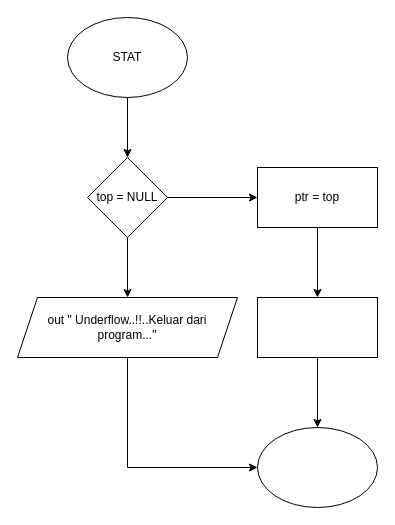
Image size: 395x525. Some labels were removed from this diagram. Each missing label, with the centre of its shape:
END: [317,467]
top = top->next: [317,327]
